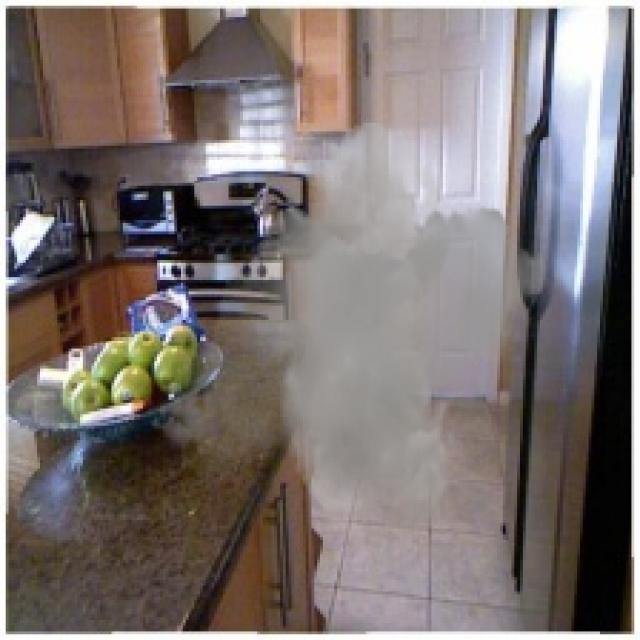smoke: (148, 120, 563, 534)
